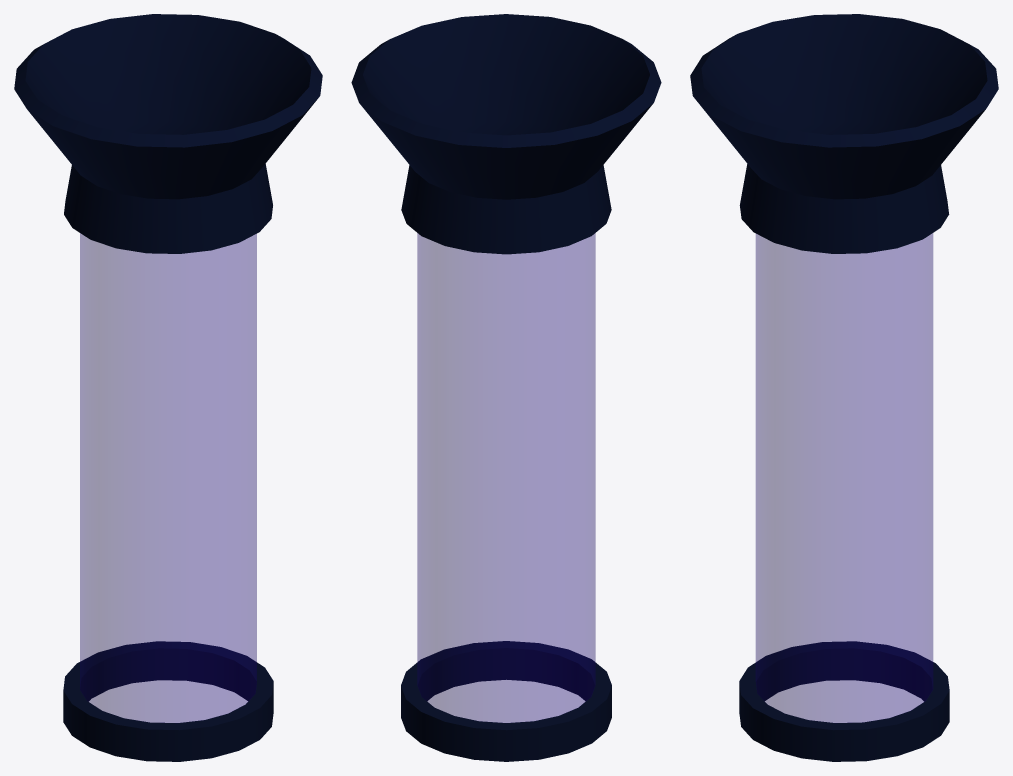
Rendered from suctionTube.glb.
The picture shows the model from 3 angles, left to right: view 1: azimuth 30°, elevation 25°; view 2: azimuth 150°, elevation 25°; view 3: azimuth 270°, elevation 25°; orthographic projection.
Visible parts, largest first — view 1: suction_tupe pCylinder52, group4_pCylinder54 suction_tupe; view 2: suction_tupe pCylinder52, group4_pCylinder54 suction_tupe; view 3: suction_tupe pCylinder52, group4_pCylinder54 suction_tupe.
Part boxes in pixels (x1=…): suction_tupe pCylinder52: x1=80, y1=233, x2=256, y2=722; group4_pCylinder54 suction_tupe: x1=14, y1=14, x2=322, y2=761; suction_tupe pCylinder52: x1=417, y1=233, x2=595, y2=722; group4_pCylinder54 suction_tupe: x1=351, y1=14, x2=661, y2=761; suction_tupe pCylinder52: x1=756, y1=233, x2=932, y2=722; group4_pCylinder54 suction_tupe: x1=690, y1=14, x2=998, y2=761.
Size of the model in its own units: 0.4386 by 1.01 by 0.4386.
